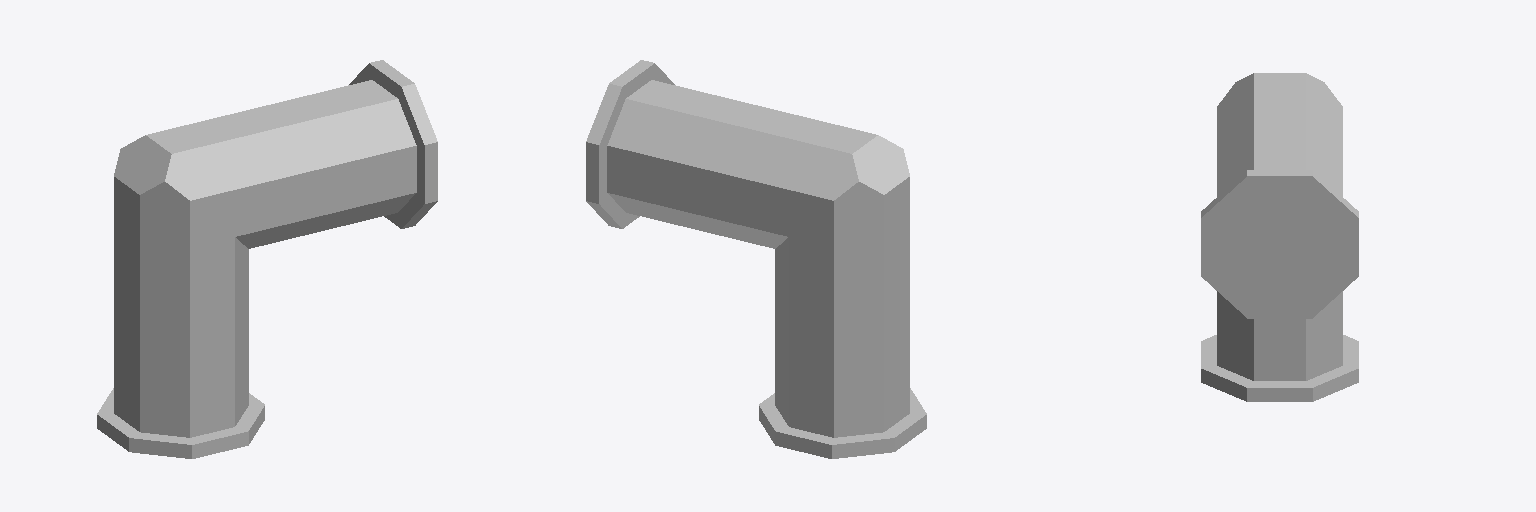
File: pipeworks_pipe_4_lowpoly.obj
The picture shows the model from 3 angles: view 1: azimuth 30°, elevation 25°; view 2: azimuth 150°, elevation 25°; view 3: azimuth 270°, elevation 25°; orthographic projection.
Visible parts, largest first — view 1: Cylinder.000_Cylinder.000_None.001; view 2: Cylinder.000_Cylinder.000_None.001; view 3: Cylinder.000_Cylinder.000_None.001.
Boxes of the visible parts, x1=… form: Cylinder.000_Cylinder.000_None.001: x1=97, y1=60, x2=437, y2=458; Cylinder.000_Cylinder.000_None.001: x1=586, y1=60, x2=926, y2=458; Cylinder.000_Cylinder.000_None.001: x1=1201, y1=73, x2=1358, y2=401.
Bounding box in the file's own units: 0.6562 × 0.6562 × 0.3125.